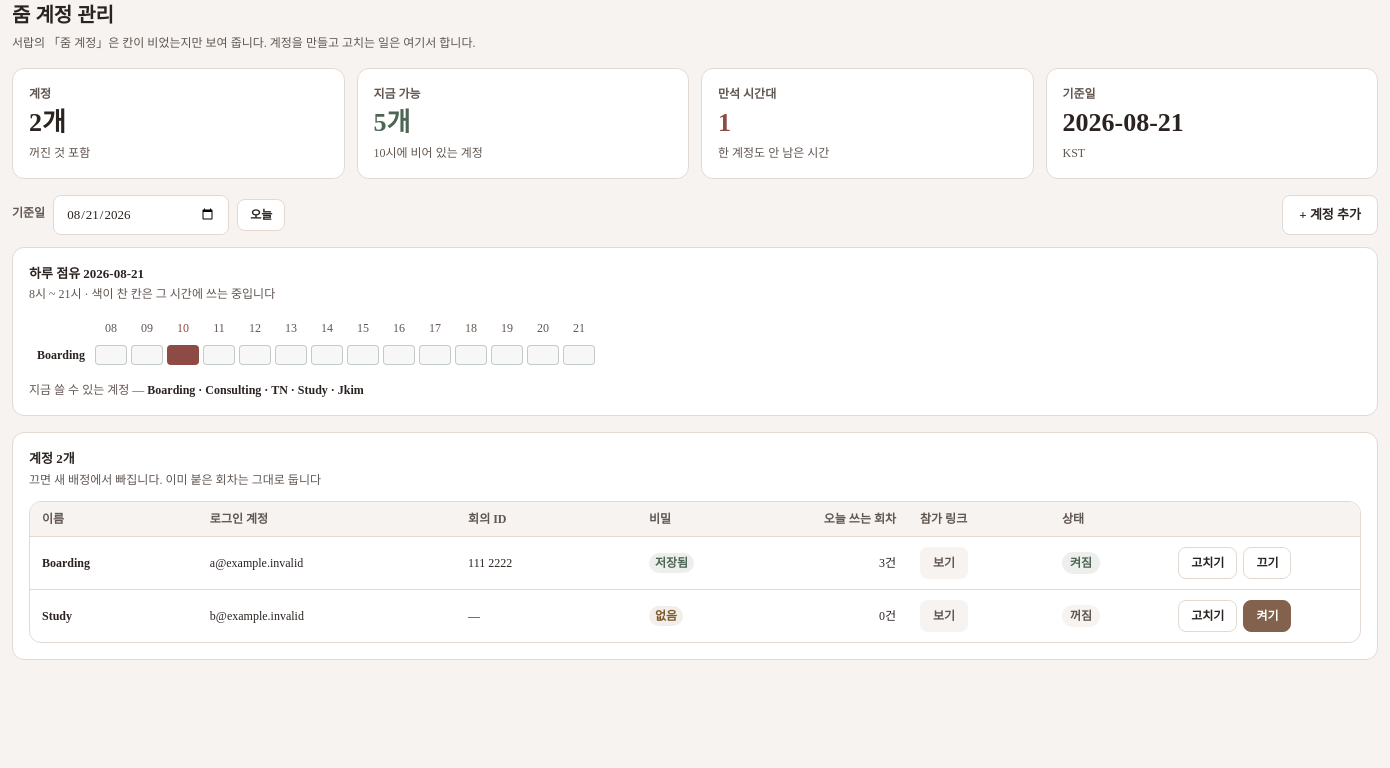
Test case: 참가 링크는 펼쳐야 보인다 — 서랍(§21)이 격자가 되면서 옮겨 온 자리다 (C72)
This screenshot has width=1390, height=768.
Expected: the text "a@example.invalid" is shown, [198,536,456,589]
Expected: the text "https://zoom.us/j/1" is not shown
Click the button "보기" in the row of "a@example.invalid" at (944, 562), box [920,546,968,578]
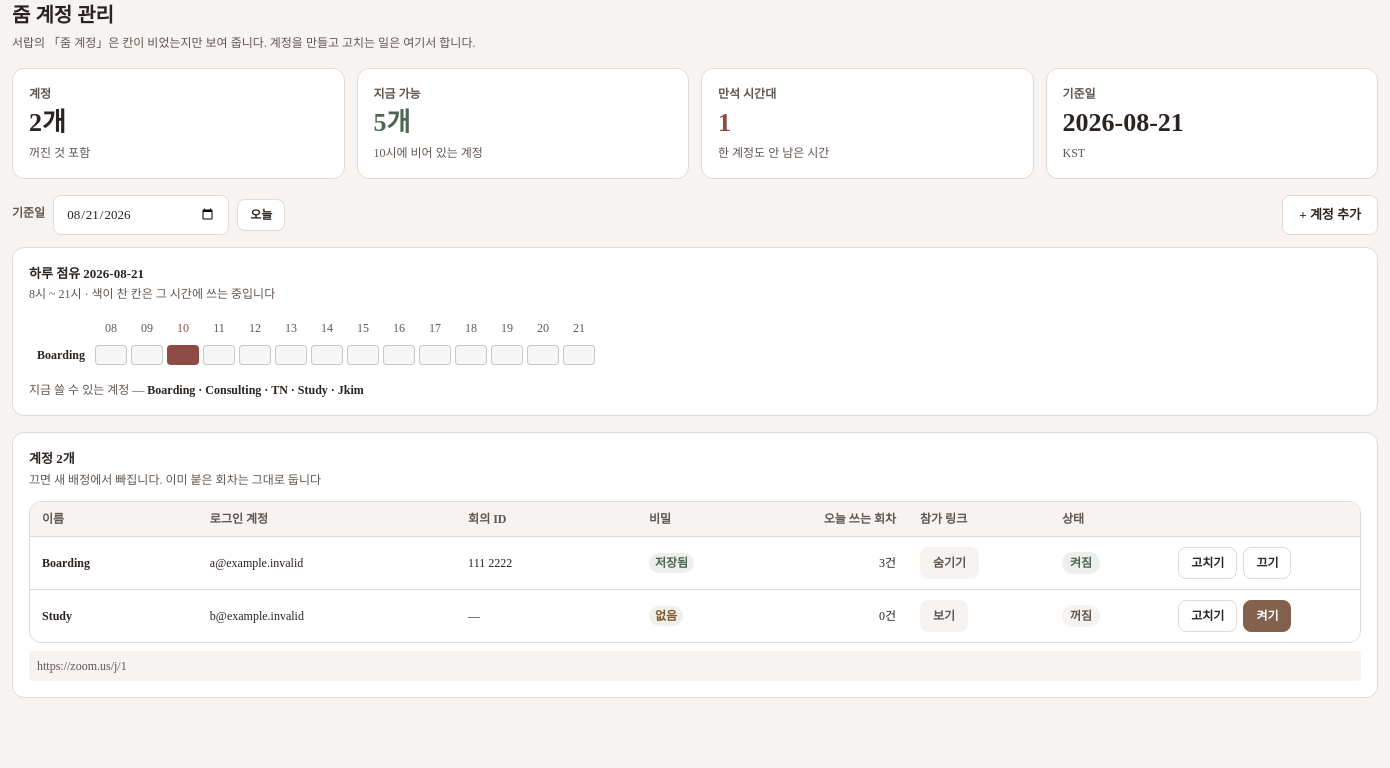
Expected: the text "https://zoom.us/j/1" is shown, [29,650,1361,680]
Click the button "숨기기" at (950, 562), box [920,546,979,578]
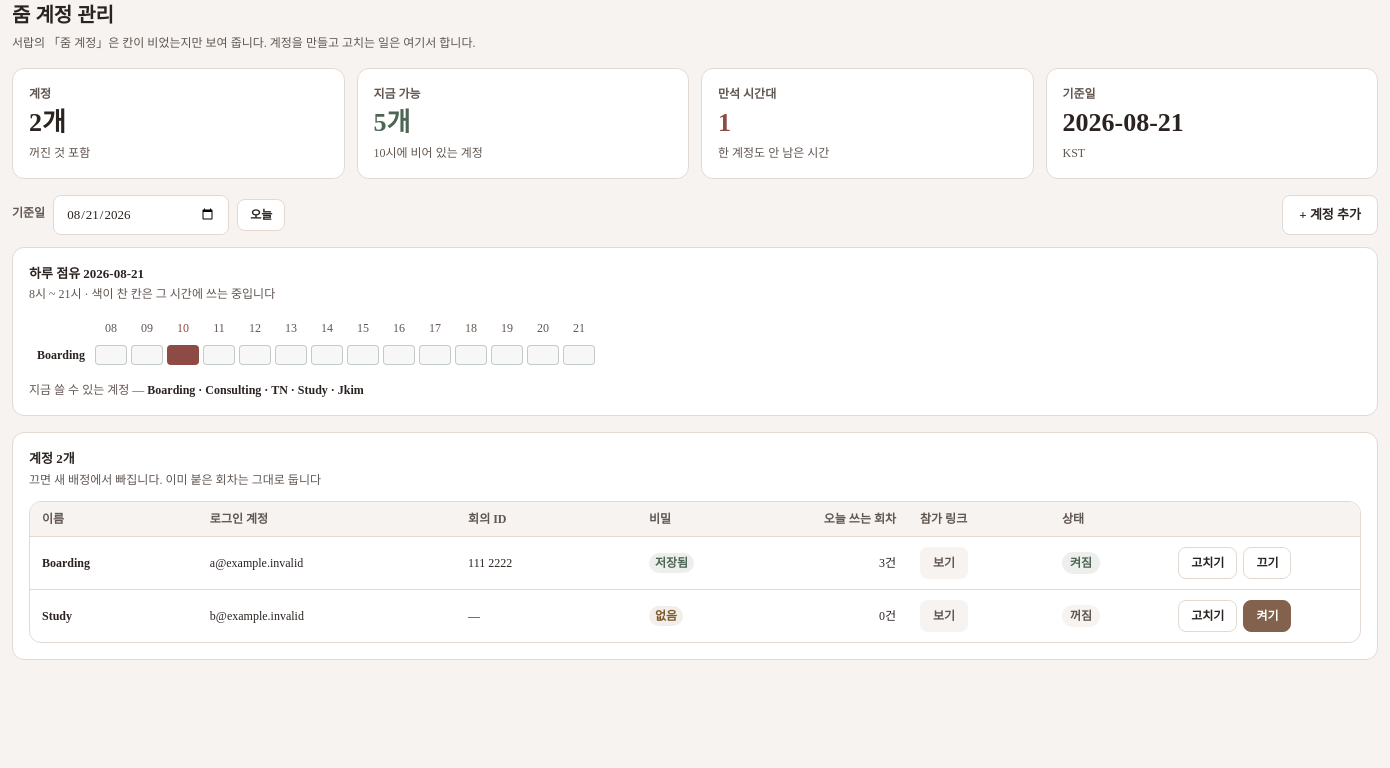
Expected: the text "https://zoom.us/j/1" is gone
